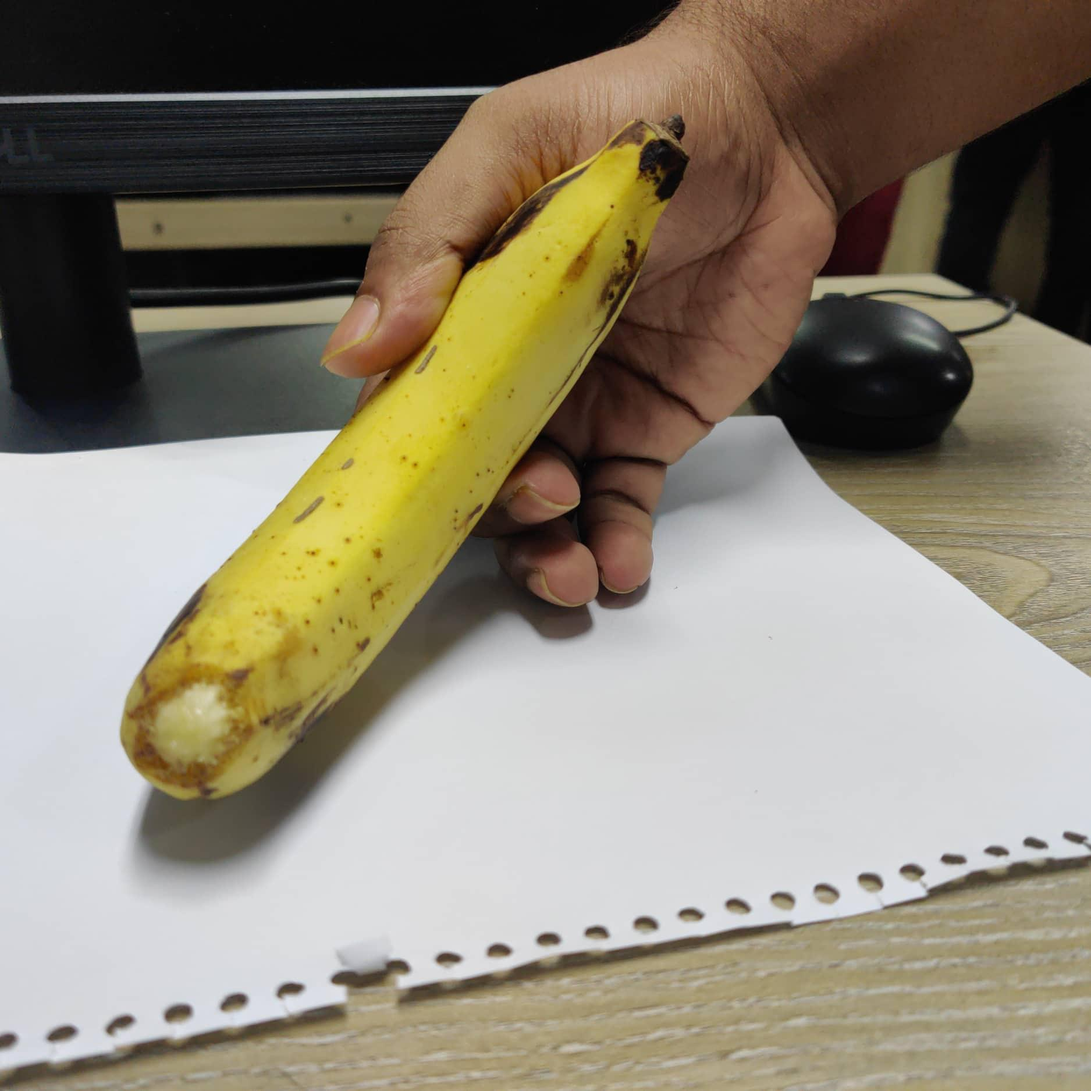Banana Ripe: (100, 130, 721, 834)
